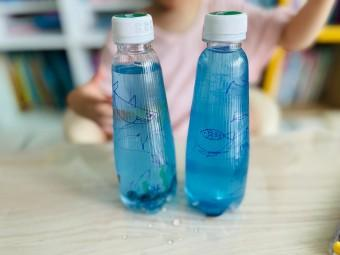bottle: (184, 11, 252, 216), (110, 12, 179, 214)
